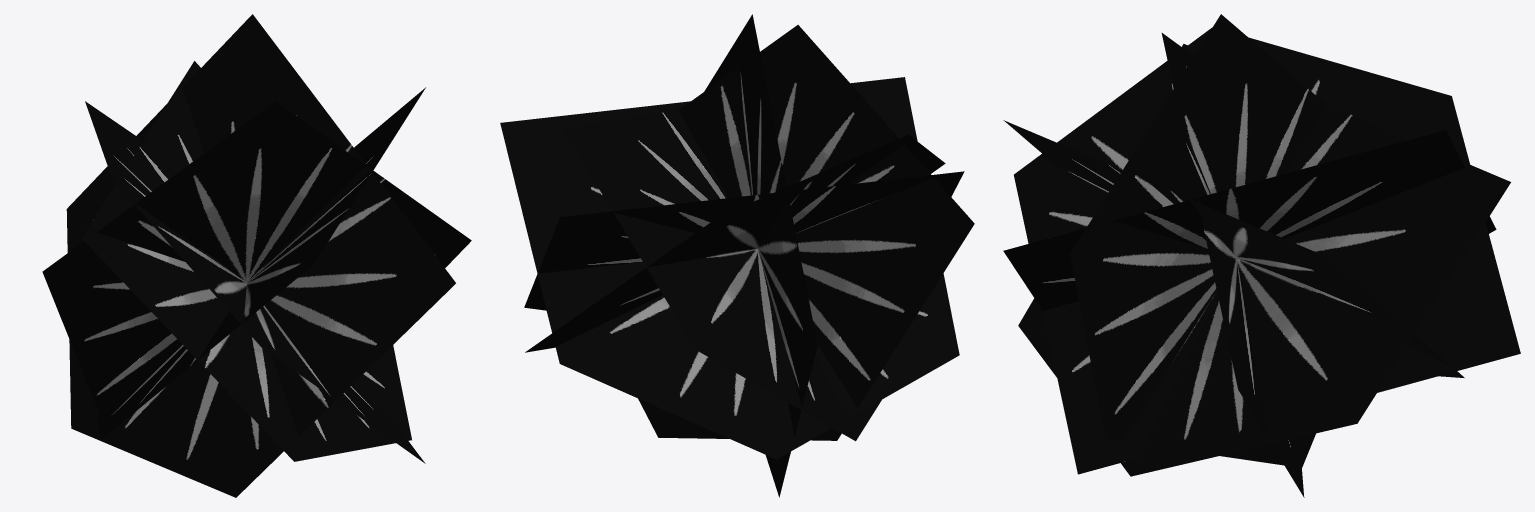
Rendered from leaf2.fbx.
3 renders of one model, left to right at view 1: azimuth 30°, elevation 25°; view 2: azimuth 150°, elevation 25°; view 3: azimuth 270°, elevation 25°, orthographic. The views are drawn at different scales.
Parts seen in each view (by area): view 1: 4; view 2: 4; view 3: 4.
Part boxes in pixels (bbox=[...]): 4: bbox=[42, 14, 471, 497]; 4: bbox=[500, 14, 974, 497]; 4: bbox=[1003, 14, 1520, 497].
Size of the model in its own units: 6.75 by 6.46 by 6.72.
